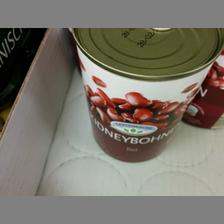Bohnen: (69, 27, 221, 163)
